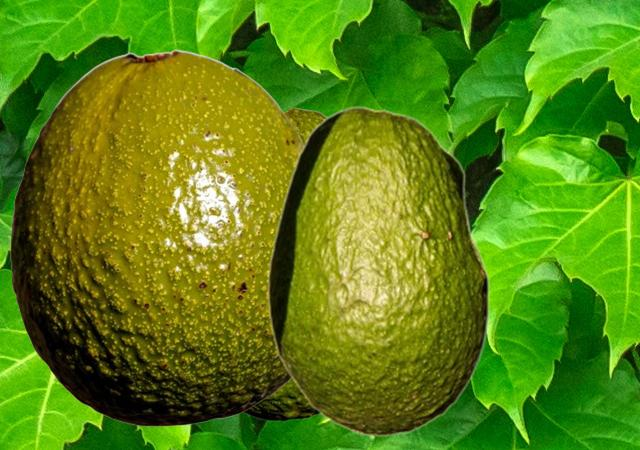avocado: (10, 49, 303, 425), (267, 105, 489, 436), (241, 105, 325, 420)
